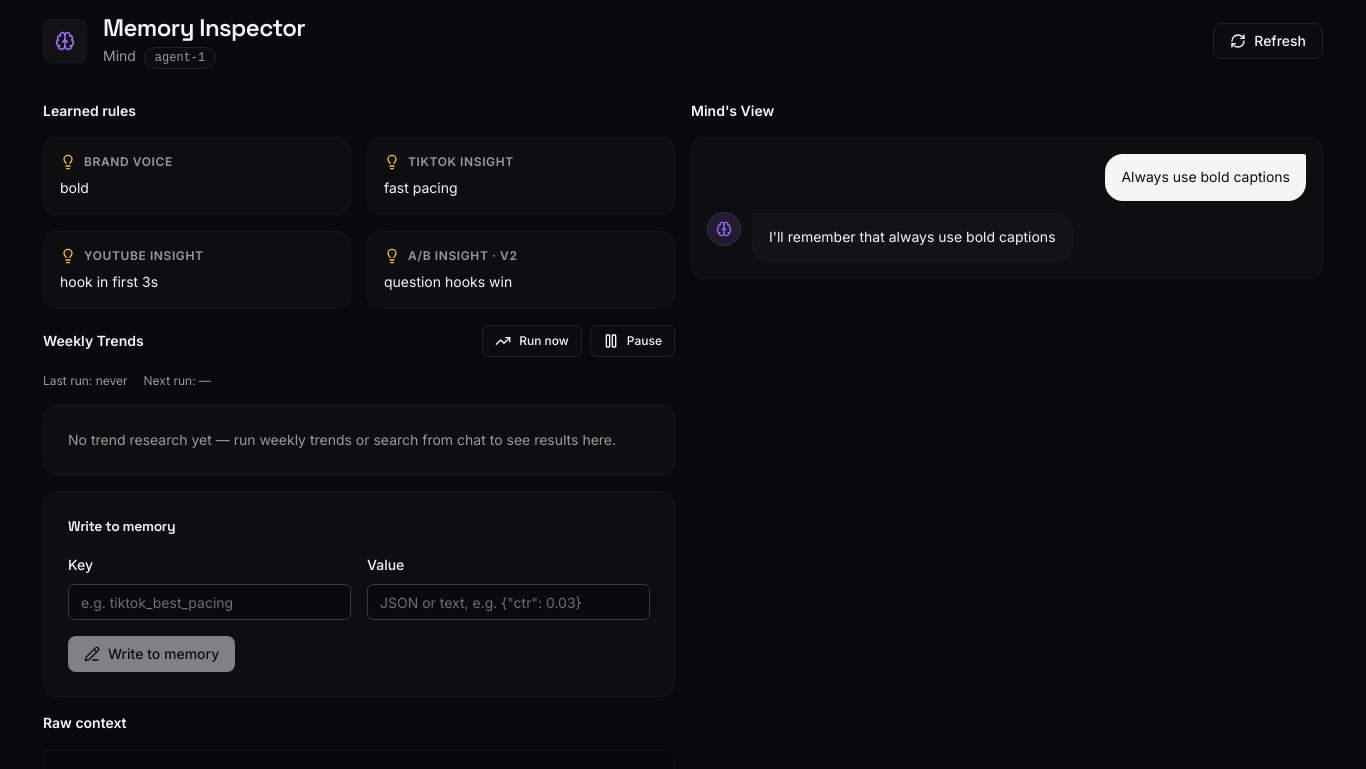
it: MemoryInspectorPage › re-fetches memory when the refresh button is clicked
The image size is (1366, 769).
Expected: the text "agent-1" is shown, left=144, top=47, right=216, bottom=69
Click the button "Refresh": (1268, 40) left=1213, top=22, right=1323, bottom=58
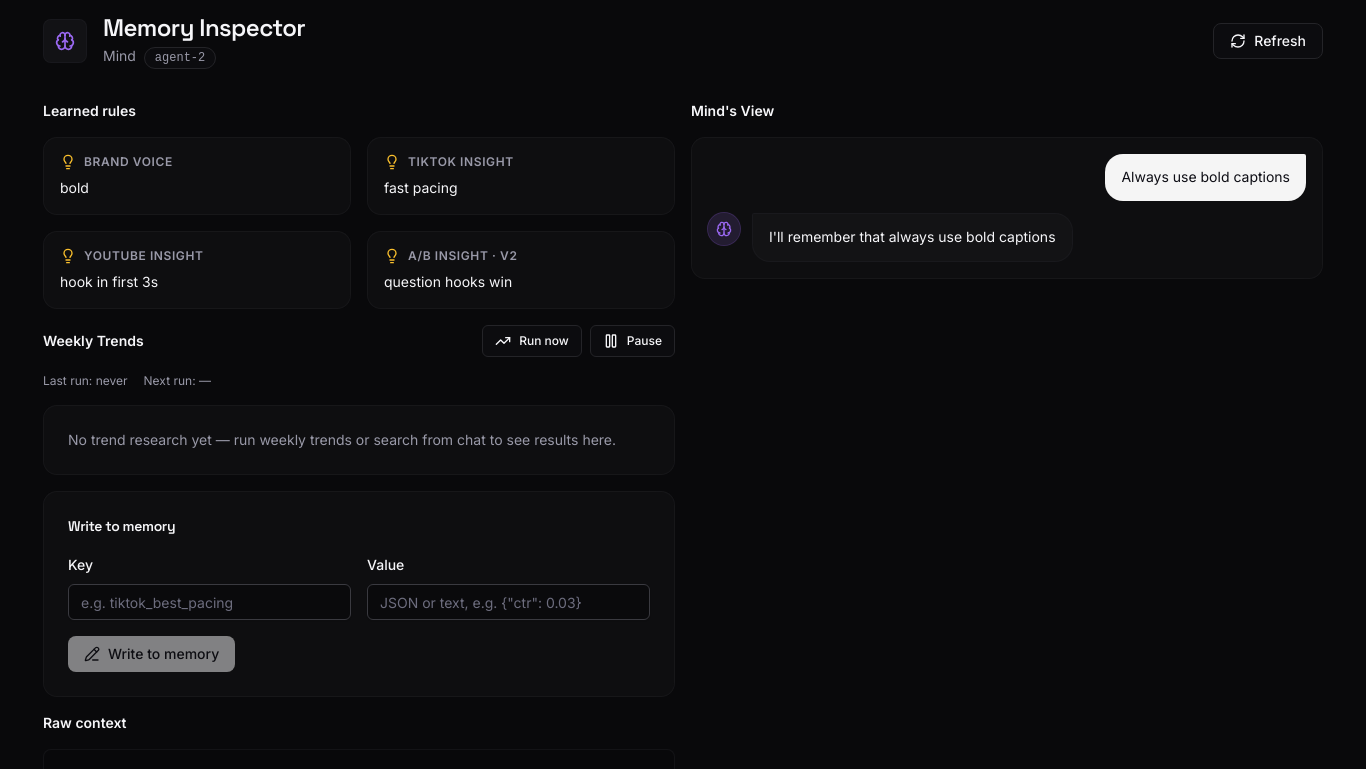
Result: the text "agent-2" is shown at left=144, top=47, right=216, bottom=69
